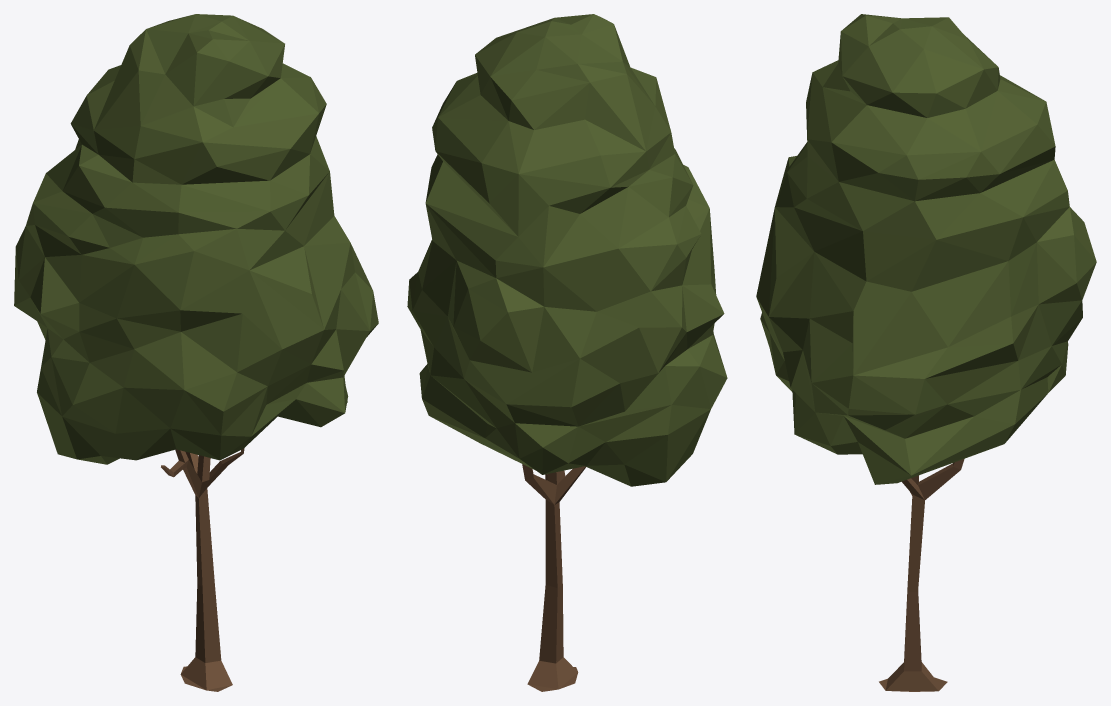
The model's file is delh_foli_04_03.fbx.
3 renders of one model, left to right at view 1: azimuth 30°, elevation 25°; view 2: azimuth 150°, elevation 25°; view 3: azimuth 270°, elevation 25°, orthographic.
Parts seen in each view (by area): view 1: delh_foli_04_03; view 2: delh_foli_04_03; view 3: delh_foli_04_03.
Part boxes in pixels (x1,y1,x2,y2): delh_foli_04_03: [14, 14, 378, 691]; delh_foli_04_03: [407, 14, 727, 691]; delh_foli_04_03: [756, 14, 1096, 691].
Size of the model in its own units: 289 by 575 by 269.
